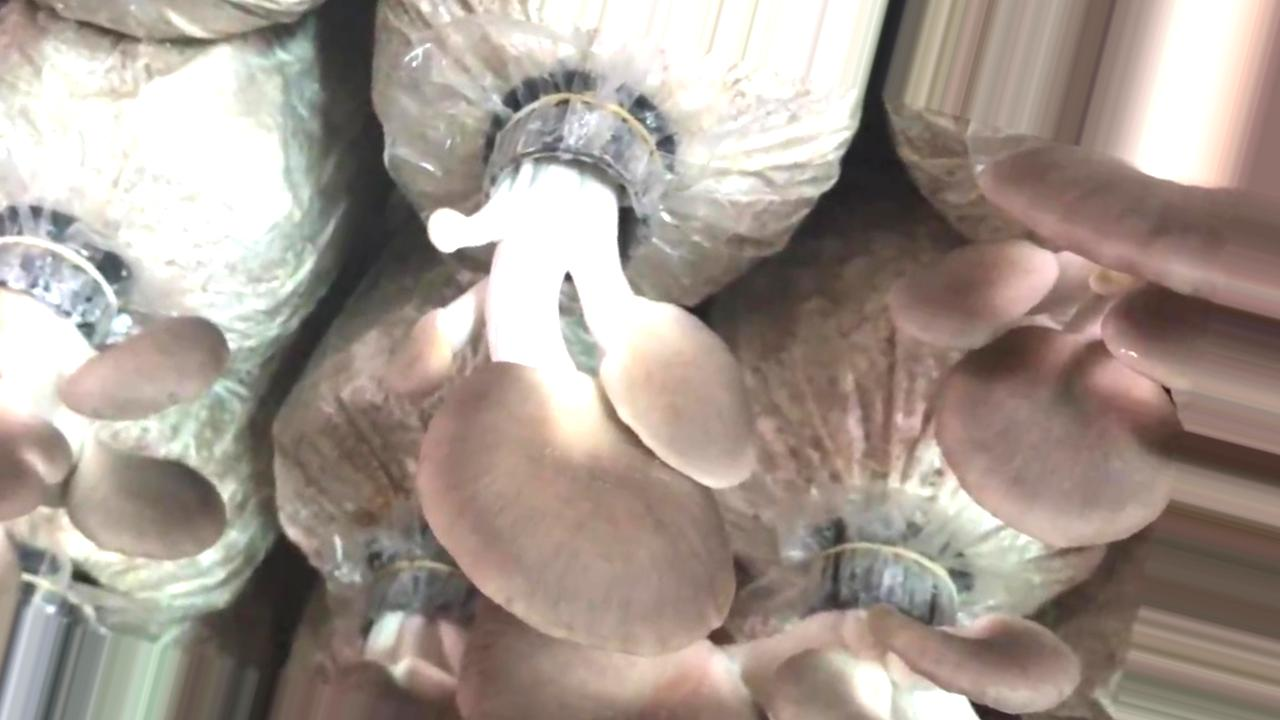nam: (410, 68, 761, 657), (885, 127, 1280, 550), (456, 506, 1086, 720), (1, 192, 236, 563)
